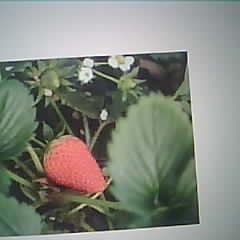straw-ripe: (43, 135, 105, 192)
